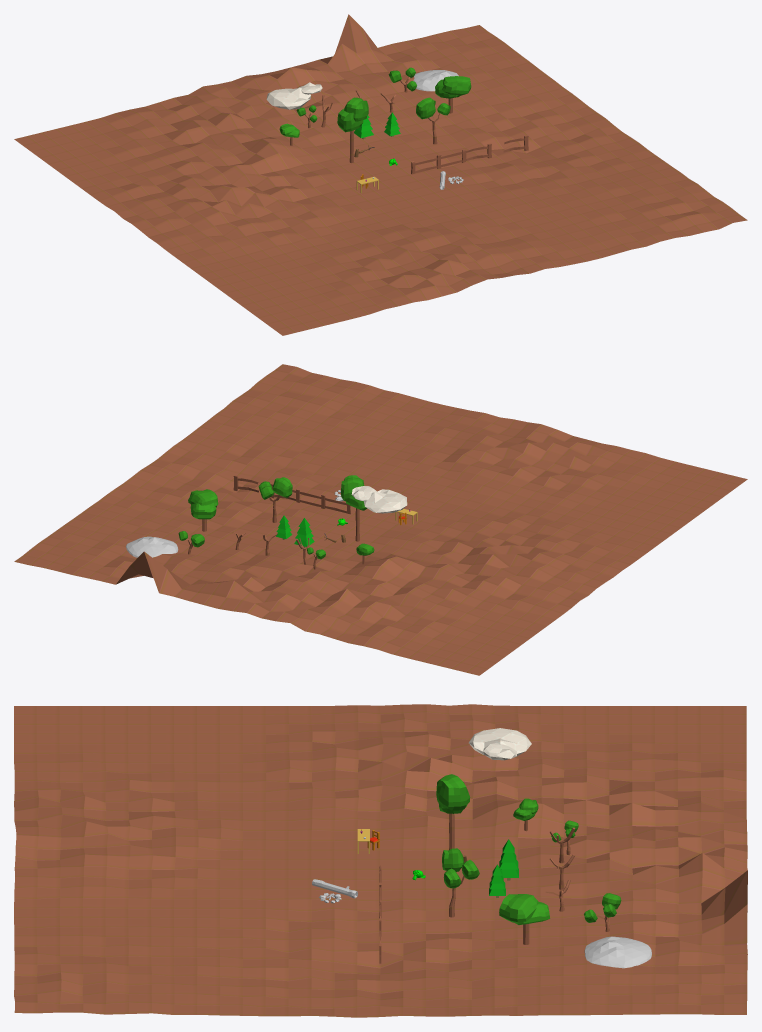
3 renders of one model, top to bottom at view 1: azimuth 30°, elevation 25°; view 2: azimuth 150°, elevation 25°; view 3: azimuth 270°, elevation 25°, orthographic. The views are drawn at different scales.
Visible parts, largest first — view 1: Plane, cloud, tree1, tree4, fence, tree1.001, Icosphere; view 2: Plane, cloud, tree4, Icosphere, tree1, tree1.001, fence; view 3: Plane, Icosphere, cloud, tree4, tree1, tree1.001, tree1.007, tree5.
Boxes of the visible parts, <box> form: Plane: <box>14,14,747,335</box>; cloud: <box>266,82,322,109</box>; tree1: <box>337,97,368,163</box>; tree4: <box>435,76,471,113</box>; fence: <box>411,143,491,174</box>; tree1.001: <box>416,97,450,144</box>; Icosphere: <box>413,70,458,91</box>; Plane: <box>14,364,747,675</box>; cloud: <box>351,486,407,513</box>; tree4: <box>188,489,218,531</box>; Icosphere: <box>126,536,178,557</box>; tree1: <box>341,475,367,541</box>; tree1.001: <box>258,477,292,522</box>; fence: <box>270,483,350,514</box>; Plane: <box>14,704,747,1017</box>; Icosphere: <box>584,936,651,968</box>; cloud: <box>468,728,531,760</box>; tree4: <box>499,894,550,944</box>; tree1: <box>436,774,470,849</box>; tree1.001: <box>442,848,479,917</box>; tree1.007: <box>584,893,621,931</box>; tree5: <box>499,839,518,880</box>.
Size of the model in its own units: 24.43 by 4 by 24.46.
